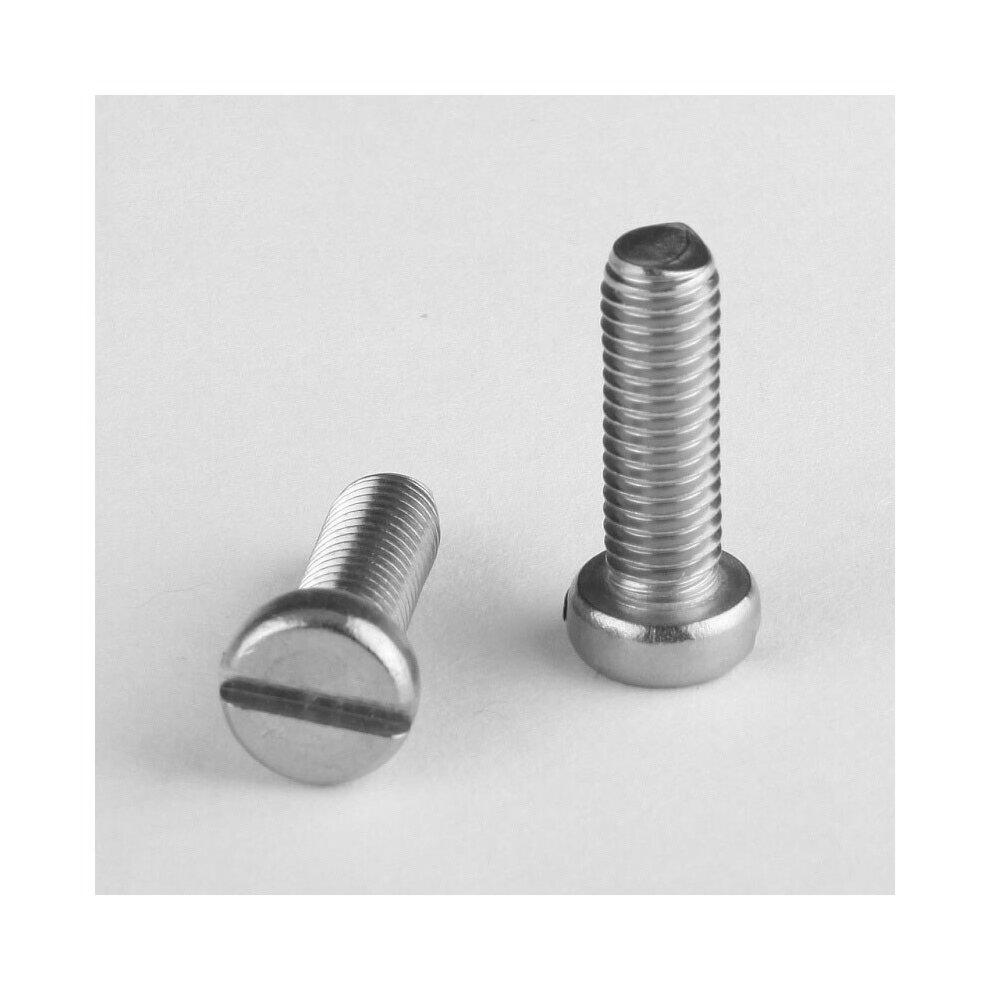screw: (218, 586, 419, 801)
